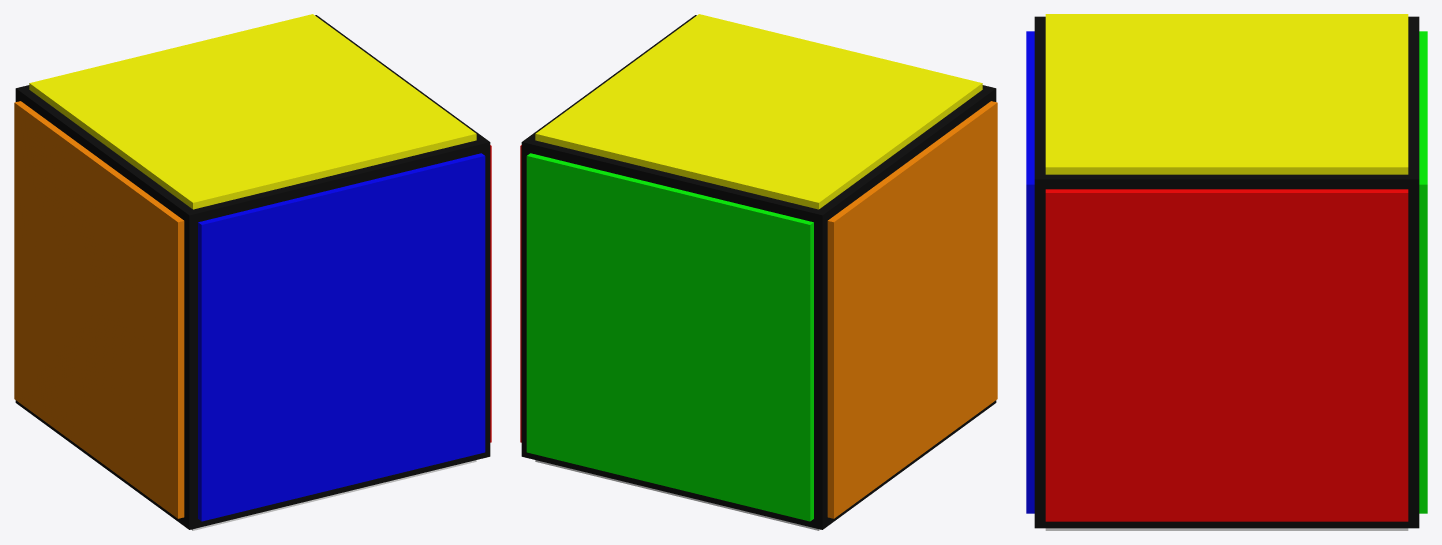
Rendered from Cubies.fbx.
The picture shows the model from 3 angles, left to right: view 1: azimuth 30°, elevation 25°; view 2: azimuth 150°, elevation 25°; view 3: azimuth 270°, elevation 25°; orthographic projection. The views are drawn at different scales.
Visible parts, largest first — view 1: Edge Left Back, Edge Left Bottom, Edge Left Top, Edge Right Back, Face Up, Edge Bottom Back, Corner Left Bottom Front, Edge Right Top, Edge Right Front, Corner Left Top Back, Edge Left Front, Edge Top Back (+5 smaller); view 2: Edge Right Front, Edge Right Top, Face Right, Edge Right Back, Edge Left Top, Corner Right Top Front, Corner Right Bottom Back, Edge Left Back, Face Up, Edge Bottom Back, Edge Top Back, Edge Left Front (+7 smaller); view 3: Edge Left Front, Edge Right Front, Corner Left Top Front, Edge Left Top, Corner Right Bottom Front, Edge Right Top, Face Up, Face Front, Edge Bottom Front, Edge Right Back, Edge Left Back, Edge Top Front (+2 smaller).
Boxes of the visible parts, x1,y1,x2,y2 form: Edge Left Back: (14,103,350,529); Edge Left Bottom: (185,156,490,529); Edge Left Top: (30,49,476,489); Edge Right Back: (14,85,258,529); Face Up: (106,69,475,505); Edge Bottom Back: (41,122,177,353); Corner Left Bottom Front: (244,168,435,347); Edge Right Top: (85,14,408,208); Edge Right Front: (138,142,491,443); Corner Left Top Back: (226,183,365,520); Edge Left Front: (15,15,491,483); Edge Top Back: (29,78,358,529); Edge Right Front: (527,88,996,529); Edge Right Top: (526,53,982,461); Face Right: (526,156,813,520); Edge Right Back: (660,85,997,498); Edge Left Top: (670,67,981,499); Corner Right Top Front: (526,156,763,335); Corner Right Bottom Back: (562,167,997,530); Edge Left Back: (521,142,911,529); Face Up: (602,14,918,219); Edge Bottom Back: (551,103,997,305); Edge Top Back: (521,61,915,518); Edge Left Front: (520,15,957,287); Edge Left Front: (1026,112,1419,528); Edge Right Front: (1221,111,1427,528); Corner Left Top Front: (1028,79,1408,411); Edge Left Top: (1026,14,1408,189); Corner Right Bottom Front: (1187,193,1427,361); Edge Right Top: (1121,83,1408,167); Face Up: (1034,48,1264,167); Face Front: (1072,193,1277,376); Edge Bottom Front: (1034,345,1235,530); Edge Right Back: (1034,16,1427,342); Edge Left Back: (1026,179,1145,471); Edge Top Front: (1163,238,1282,380).
Bounding box in the file's own units: 209 × 209 × 209.
